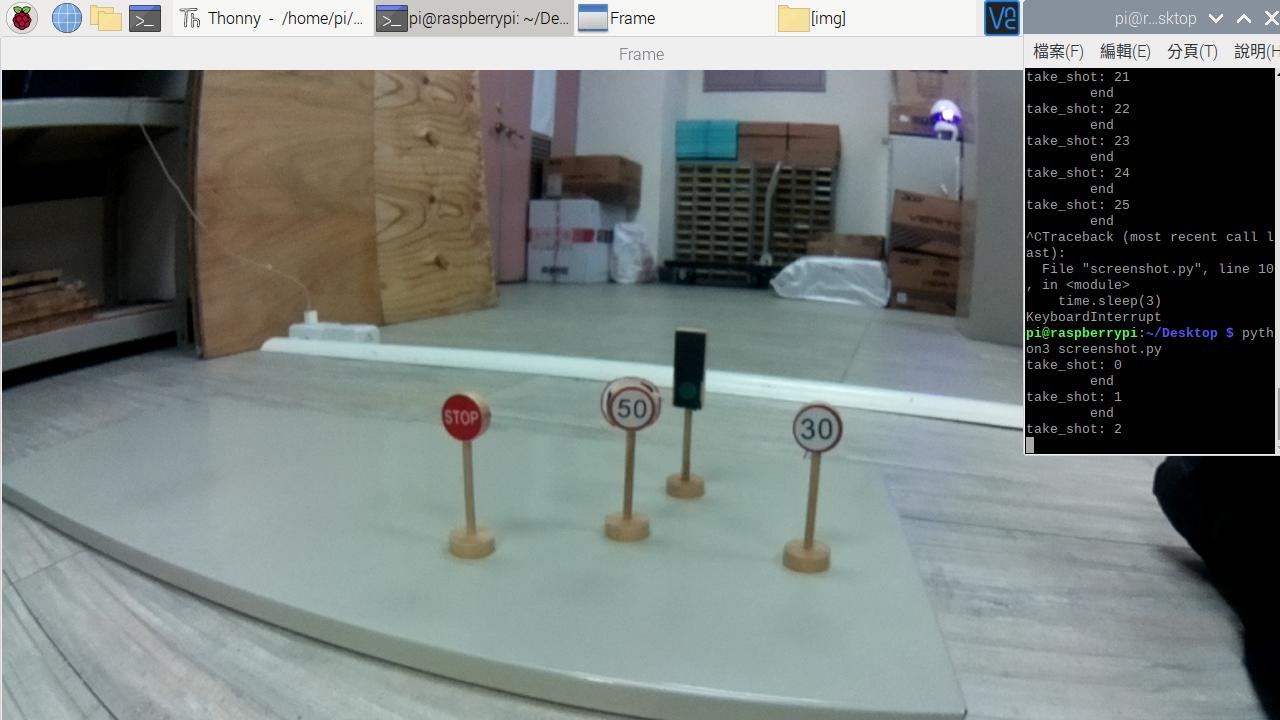Green: (676, 331, 699, 409)
Speed30: (802, 403, 837, 448)
Speed50: (603, 385, 657, 425)
Stop: (440, 394, 489, 436)
